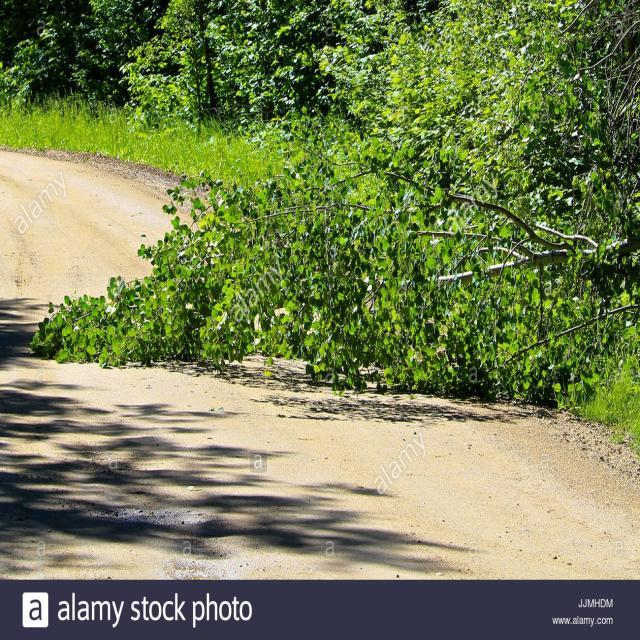fallen_object: (87, 172, 640, 368)
